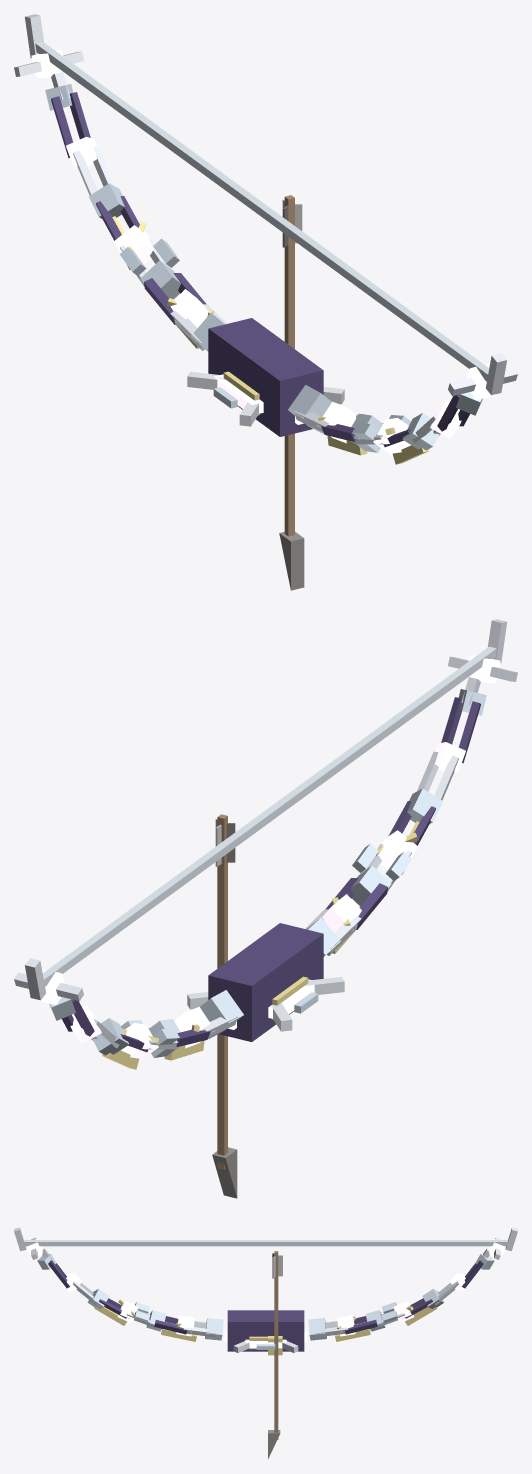
Rendered from art_astrea_cosmic_bow.fbx.
The picture shows the model from 3 angles, top to bottom: view 1: azimuth 30°, elevation 25°; view 2: azimuth 150°, elevation 25°; view 3: azimuth 270°, elevation 25°; orthographic projection. The views are drawn at different scales.
Visible parts, largest first — view 1: Handle, BowString, ArrowShaft, ArrowHead, StarNodeL_1, StarNodeU_4, StarNodeU_2, StarNodeU_3, StarNodeU_5, StarNodeL_4, StarNodeL_5, StarCrownL_North; view 2: Handle, BowString, ArrowShaft, ArrowHead, StarNodeU_1, StarNodeL_2, StarNodeL_4, StarNodeL_3, StarNodeL_5, StarNodeU_4, StarNodeU_5, StarCrownU_North; view 3: BowString, Handle, ArrowShaft, StarNodeL_1, StarNodeU_1.
Boxes of the visible parts, x1,y1,x2,y2 form: Handle: [208, 318, 323, 436]; BowString: [35, 41, 489, 381]; ArrowShaft: [284, 195, 294, 536]; ArrowHead: [279, 532, 304, 590]; StarNodeL_1: [288, 385, 331, 433]; StarNodeU_4: [113, 225, 154, 264]; StarNodeU_2: [170, 289, 208, 327]; StarNodeU_3: [140, 260, 180, 299]; StarNodeU_5: [89, 183, 124, 218]; StarNodeL_4: [373, 418, 410, 456]; StarNodeL_5: [402, 413, 439, 450]; StarCrownL_North: [486, 353, 507, 395]; Handle: [208, 923, 323, 1041]; BowString: [42, 646, 496, 986]; ArrowShaft: [217, 814, 227, 1169]; ArrowHead: [212, 1147, 237, 1198]; StarNodeU_1: [200, 990, 243, 1038]; StarNodeL_2: [321, 894, 361, 932]; StarNodeL_4: [377, 830, 418, 869]; StarNodeL_3: [351, 865, 391, 906]; StarNodeL_5: [407, 788, 443, 823]; StarNodeU_4: [121, 1023, 158, 1061]; StarNodeU_5: [92, 1018, 129, 1055]; StarCrownU_North: [24, 958, 46, 1000]; BowString: [24, 1240, 507, 1246]; Handle: [227, 1310, 304, 1351]; ArrowShaft: [274, 1251, 278, 1439]; StarNodeL_1: [205, 1318, 223, 1340]; StarNodeU_1: [308, 1318, 326, 1340].
Size of the model in its own units: 0.6263 by 2.35 by 4.88.
